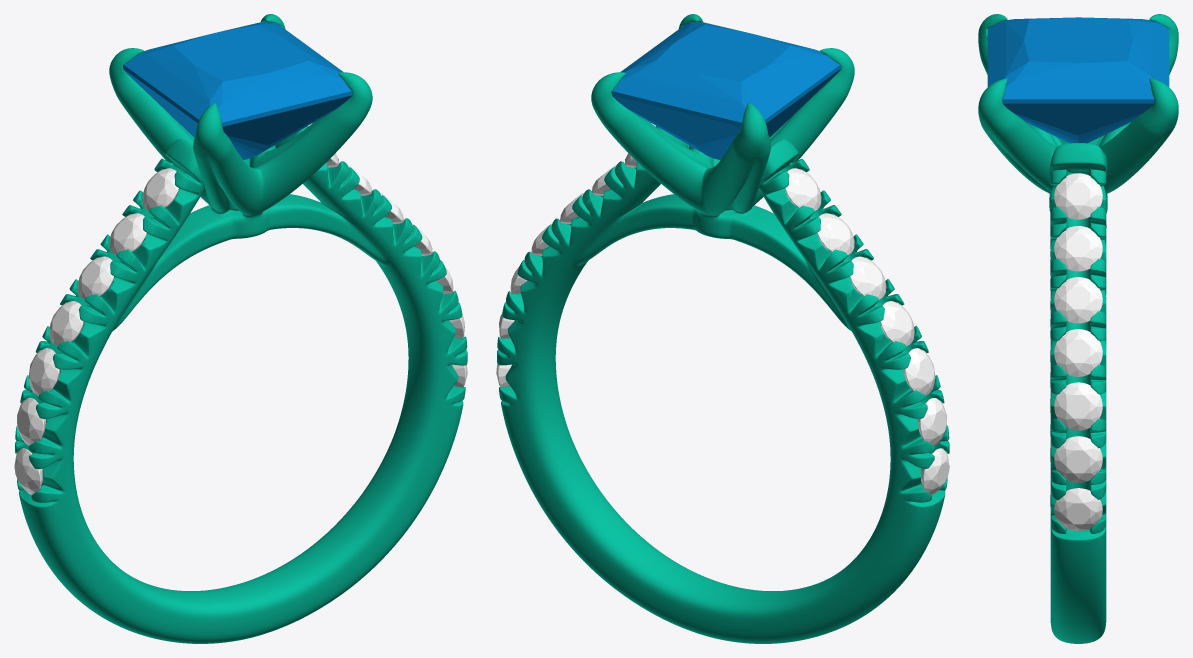
File: BE1D1420_PR_200ct_RENDER.glb
3 views of the same model, side by side, from view 1: azimuth 30°, elevation 25°; view 2: azimuth 150°, elevation 25°; view 3: azimuth 270°, elevation 25° (orthographic).
Parts seen in each view (by area): view 1: Metal 01, CS_Diamond_Princess, Diamond_Round_Gem_SH.003, Diamond_Round_Gem_SH.004, Diamond_Round_Gem_SH.006, Diamond_Round_Gem_SH.005, Diamond_Round_Gem_SH.002, Diamond_Round_Gem_SH.001, Diamond_Round_Gem_SH; view 2: Metal 01, CS_Diamond_Princess, Diamond_Round_Gem_SH.003, Diamond_Round_Gem_SH.004, Diamond_Round_Gem_SH.006, Diamond_Round_Gem_SH.005, Diamond_Round_Gem_SH.002, Diamond_Round_Gem_SH.001, Diamond_Round_Gem_SH; view 3: Metal 01, CS_Diamond_Princess, Diamond_Round_Gem_SH.009, Diamond_Round_Gem_SH.010, Diamond_Round_Gem_SH.008, Diamond_Round_Gem_SH.011, Diamond_Round_Gem_SH.013, Diamond_Round_Gem_SH.012, Diamond_Round_Gem_SH.007.
Part boxes in pixels (<box>): Metal 01: <box>15,14,467,643</box>; CS_Diamond_Princess: <box>123,22,352,159</box>; Diamond_Round_Gem_SH.003: <box>49,301,83,346</box>; Diamond_Round_Gem_SH.004: <box>77,256,113,299</box>; Diamond_Round_Gem_SH.006: <box>142,168,178,210</box>; Diamond_Round_Gem_SH.005: <box>109,213,146,254</box>; Diamond_Round_Gem_SH.002: <box>28,348,60,395</box>; Diamond_Round_Gem_SH.001: <box>17,398,45,445</box>; Diamond_Round_Gem_SH: <box>14,448,42,494</box>; Metal 01: <box>497,14,949,643</box>; CS_Diamond_Princess: <box>611,22,840,159</box>; Diamond_Round_Gem_SH.003: <box>880,301,914,346</box>; Diamond_Round_Gem_SH.004: <box>850,256,886,299</box>; Diamond_Round_Gem_SH.006: <box>785,168,821,210</box>; Diamond_Round_Gem_SH.005: <box>817,213,854,255</box>; Diamond_Round_Gem_SH.002: <box>903,348,935,395</box>; Diamond_Round_Gem_SH.001: <box>918,398,946,445</box>; Diamond_Round_Gem_SH: <box>921,448,949,494</box>; Metal 01: <box>978,14,1178,643</box>; CS_Diamond_Princess: <box>987,17,1169,143</box>; Diamond_Round_Gem_SH.009: <box>1054,382,1102,430</box>; Diamond_Round_Gem_SH.010: <box>1054,329,1102,376</box>; Diamond_Round_Gem_SH.008: <box>1054,436,1102,482</box>; Diamond_Round_Gem_SH.011: <box>1054,277,1102,323</box>; Diamond_Round_Gem_SH.013: <box>1054,173,1102,219</box>; Diamond_Round_Gem_SH.012: <box>1054,226,1102,271</box>; Diamond_Round_Gem_SH.007: <box>1054,488,1102,531</box>.
Bounding box in the file's own units: 20.99 × 26.45 × 8.29.
